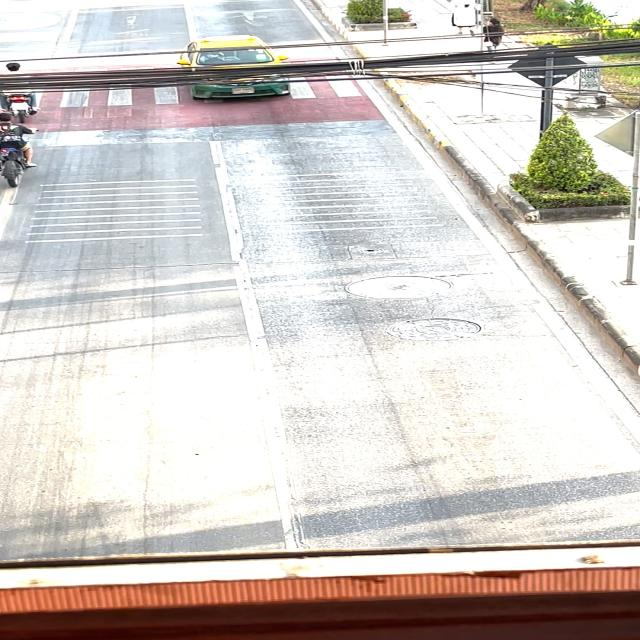car: (165, 29, 350, 107)
